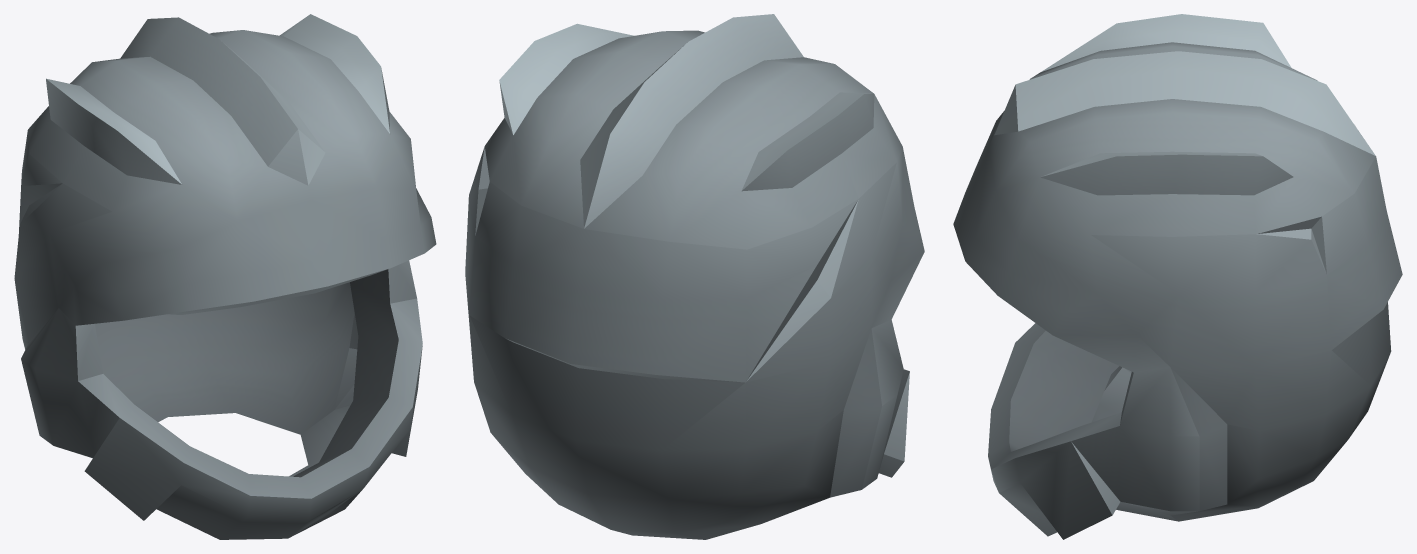
Rendered from helmet.glb.
3 views of the same model, side by side, from view 1: azimuth 30°, elevation 25°; view 2: azimuth 150°, elevation 25°; view 3: azimuth 270°, elevation 25° (orthographic). The views are drawn at different scales.
Visible parts, largest first — view 1: Knight_Helmet; view 2: Knight_Helmet; view 3: Knight_Helmet.
Boxes of the visible parts, left/top/right/bottom form: Knight_Helmet: left=14, top=14, right=436, bottom=539; Knight_Helmet: left=465, top=14, right=924, bottom=539; Knight_Helmet: left=953, top=14, right=1402, bottom=539.
Size of the model in its own units: 1.14 by 1.3 by 1.14.
1 material, 1 textured.
